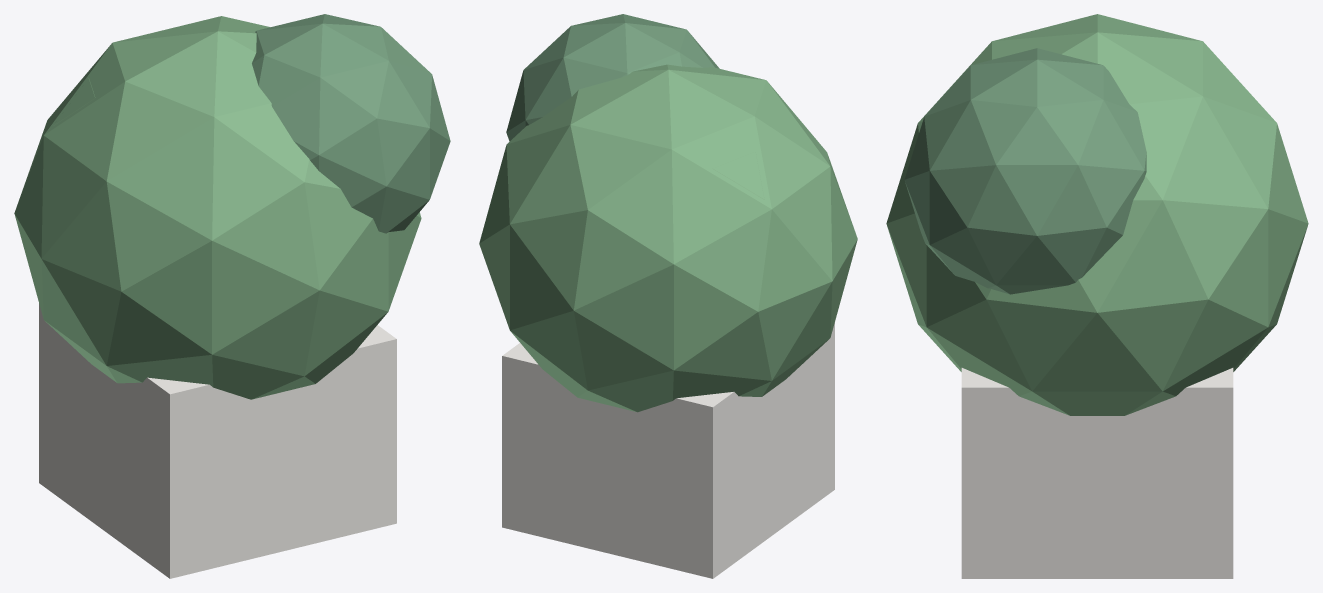
Rendered from potted_plant.glb.
3 renders of one model, left to right at view 1: azimuth 30°, elevation 25°; view 2: azimuth 150°, elevation 25°; view 3: azimuth 270°, elevation 25°, orthographic. The views are drawn at different scales.
Visible parts, largest first — view 1: p001, p000, p002, p003; view 2: p001, p000, p002, p003; view 3: p001, p000, p002.
Boxes of the visible parts, left/top/right/bottom form: p001: left=14, top=16, right=421, bottom=399; p000: left=39, top=303, right=396, bottom=578; p002: left=252, top=14, right=450, bottom=233; p003: left=53, top=78, right=95, bottom=125; p001: left=479, top=64, right=857, bottom=412; p000: left=502, top=322, right=834, bottom=578; p002: left=506, top=14, right=719, bottom=141; p003: left=713, top=151, right=764, bottom=199; p001: left=886, top=14, right=1308, bottom=415; p000: left=961, top=368, right=1233, bottom=578; p002: left=904, top=48, right=1146, bottom=294.
Bounding box in the file's own units: 0.72 × 0.915 × 0.7.
